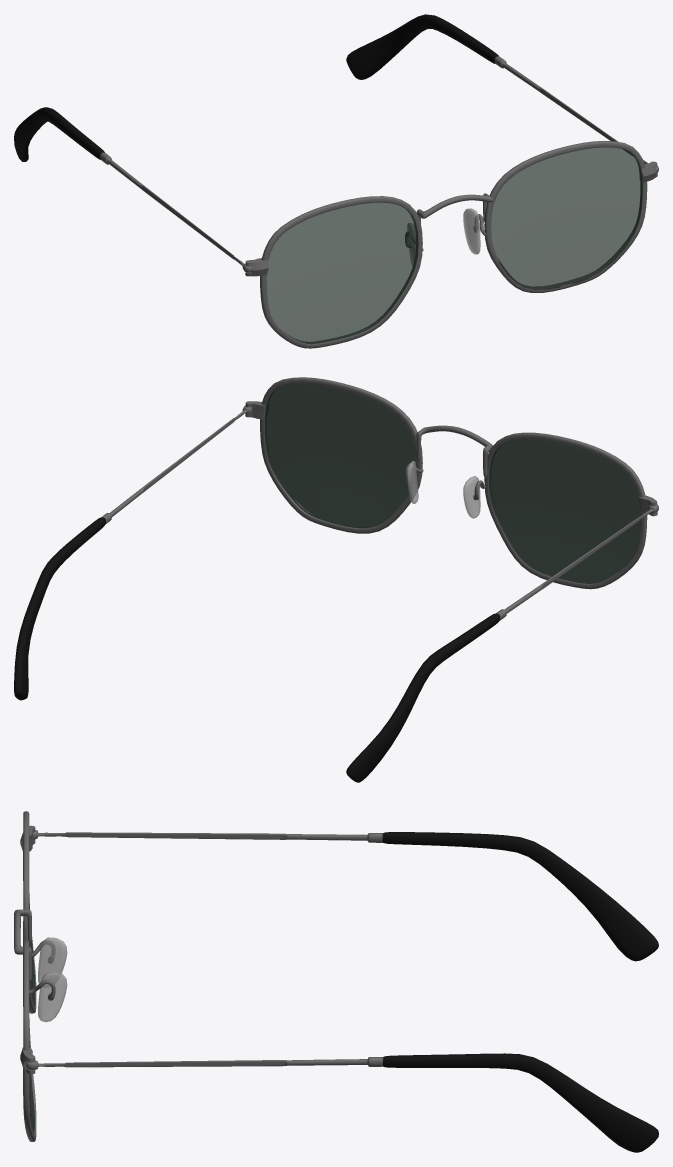
The model's file is glasses4.glb.
3 renders of one model, top to bottom at view 1: azimuth 30°, elevation 25°; view 2: azimuth 150°, elevation 25°; view 3: azimuth 270°, elevation 25°, orthographic. The views are drawn at different scales.
Visible parts, largest first — view 1: Plane.002_Osse_01_0; view 2: Plane.002_Osse_01_0; view 3: Plane.002_Osse_01_0.
Part boxes in pixels (x1,y1,x2,y2): Plane.002_Osse_01_0: (14, 14, 658, 348); Plane.002_Osse_01_0: (14, 377, 658, 782); Plane.002_Osse_01_0: (14, 811, 658, 1152).
Bounding box in the file's own units: 0.6849 × 0.2275 × 0.7942.
Materials: 1 (1 with a texture image).
